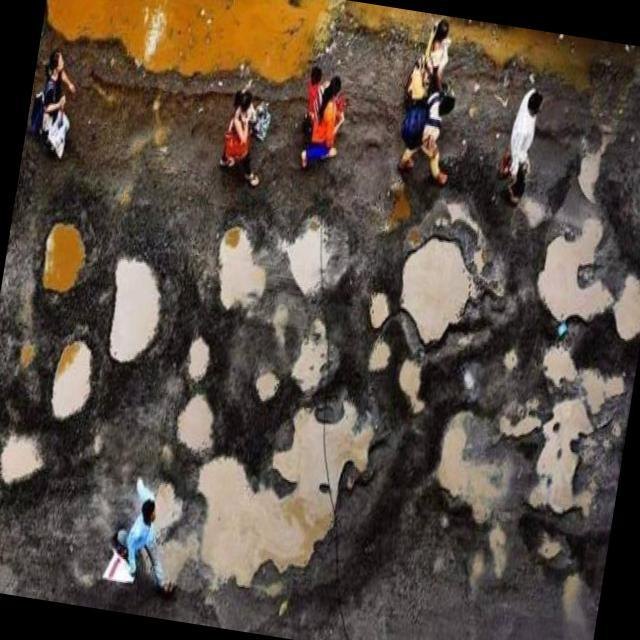Pothole: (163, 378, 384, 602), (486, 382, 620, 530), (391, 221, 504, 348), (520, 206, 630, 329), (428, 401, 522, 521), (96, 242, 173, 369), (272, 206, 363, 300), (274, 310, 348, 404), (40, 326, 102, 430), (210, 217, 278, 306), (32, 212, 97, 292), (564, 129, 622, 213), (147, 518, 205, 602), (0, 427, 61, 495), (168, 391, 226, 456), (604, 258, 640, 347), (390, 358, 438, 422), (572, 362, 628, 416), (481, 525, 520, 595), (532, 339, 582, 384), (182, 326, 218, 386), (511, 186, 559, 230), (525, 524, 573, 568), (146, 480, 184, 531), (244, 359, 282, 407), (462, 542, 492, 598), (361, 286, 396, 330), (362, 329, 394, 373), (16, 328, 42, 371), (456, 361, 485, 394), (495, 342, 521, 372)
